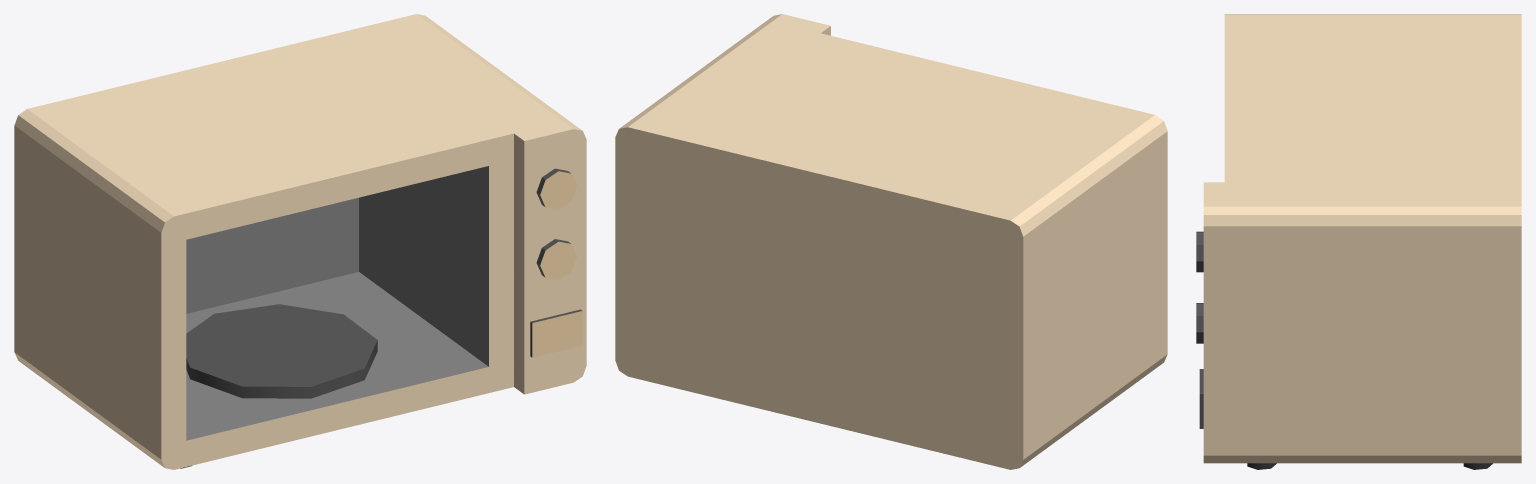
Rendered from Microwave_Old.fbx.
The picture shows the model from 3 angles, left to right: view 1: azimuth 30°, elevation 25°; view 2: azimuth 150°, elevation 25°; view 3: azimuth 270°, elevation 25°; orthographic projection. The views are drawn at different scales.
Visible parts, largest first — view 1: Microwave_Old; view 2: Microwave_Old; view 3: Microwave_Old.
Part boxes in pixels (x1,y1,x2,y2): Microwave_Old: (14,14,586,469); Microwave_Old: (615,14,1167,469); Microwave_Old: (1196,14,1521,469).
Bounding box in the file's own units: 77.35 × 47.19 × 51.97.
